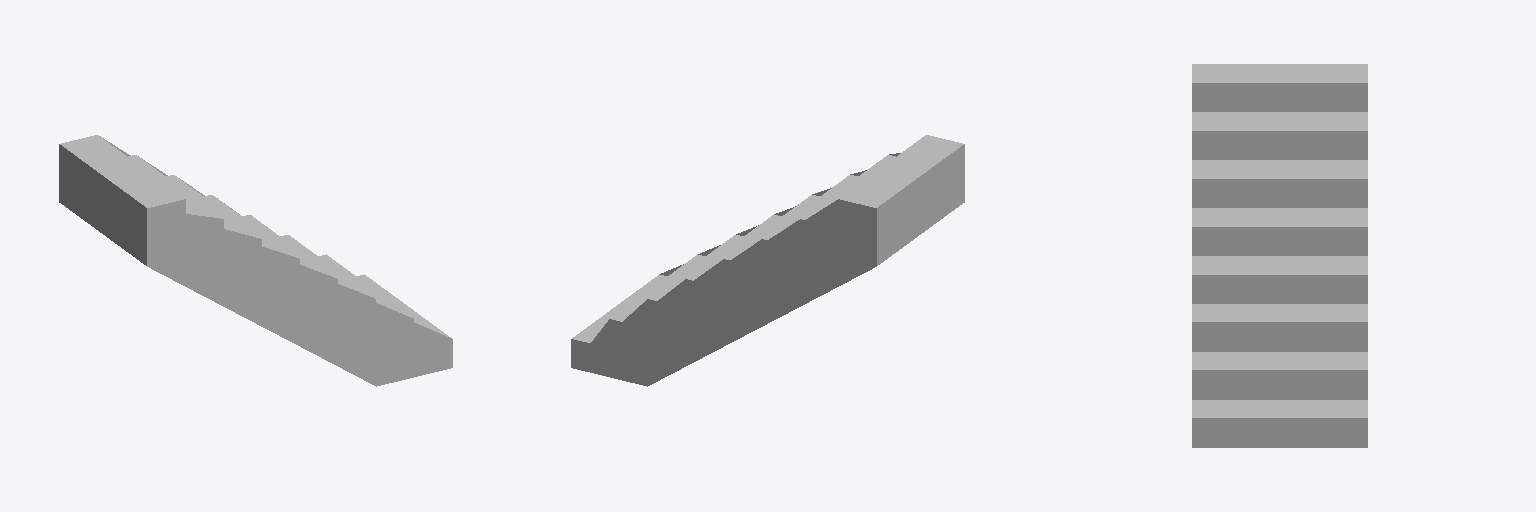
The model's file is Stairs_Wood_01.obj.
The picture shows the model from 3 angles: view 1: azimuth 30°, elevation 25°; view 2: azimuth 150°, elevation 25°; view 3: azimuth 270°, elevation 25°; orthographic projection.
Visible parts, largest first — view 1: Mesh1 Stairs_Wood Model; view 2: Mesh1 Stairs_Wood Model; view 3: Mesh1 Stairs_Wood Model.
Part boxes in pixels (bbox=[...]): Mesh1 Stairs_Wood Model: bbox=[59, 135, 452, 386]; Mesh1 Stairs_Wood Model: bbox=[571, 135, 964, 386]; Mesh1 Stairs_Wood Model: bbox=[1192, 64, 1367, 447].
Bounding box in the file's own units: 3 × 2.2 × 1.5.